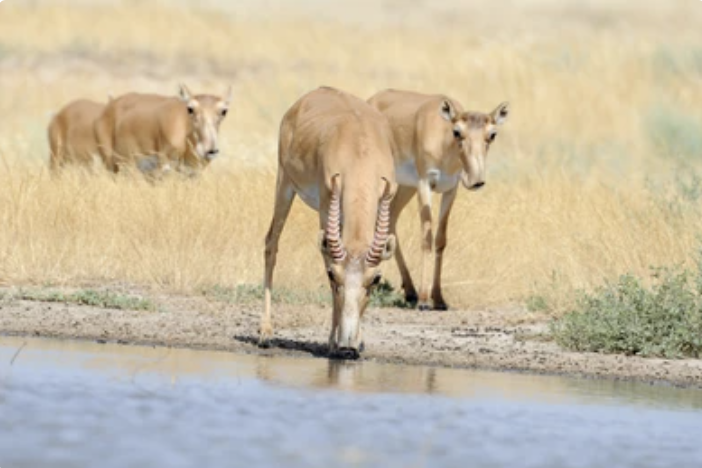saiga: (248, 84, 411, 377)
